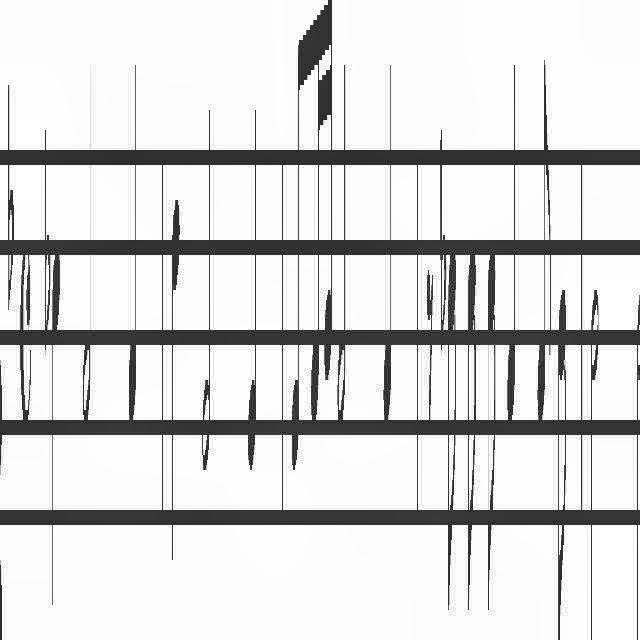Bemol: (5, 38, 15, 314), (437, 98, 447, 356), (41, 81, 50, 366)
Eighth-note: (536, 31, 552, 447), (289, 28, 303, 500), (466, 218, 478, 626), (556, 255, 567, 640), (447, 223, 457, 633), (485, 227, 495, 633)
Eighth-rest: (425, 212, 435, 456)
Half-note: (196, 67, 214, 506), (79, 24, 93, 473), (337, 32, 349, 464), (589, 255, 600, 640), (632, 245, 640, 640)
Quarter-note: (380, 44, 396, 426), (49, 215, 62, 637), (126, 50, 140, 438), (246, 78, 258, 510), (504, 15, 516, 437), (171, 169, 181, 566)
Sixteenth-note: (310, 0, 322, 460), (322, 1, 334, 416)
